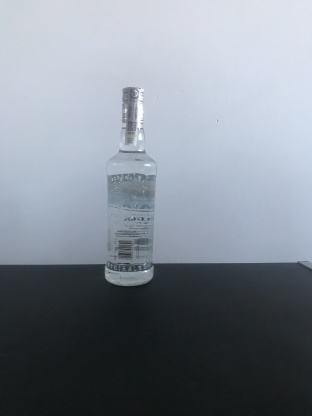nakretka: (119, 83, 146, 126)
